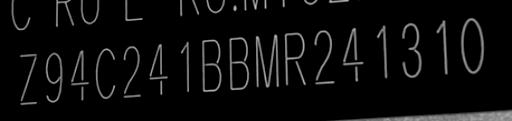letter: (456, 14, 490, 77), (338, 24, 368, 87), (396, 20, 426, 79), (430, 15, 456, 80), (310, 27, 338, 86), (254, 31, 282, 90), (226, 34, 252, 95), (198, 35, 224, 96), (283, 30, 309, 89), (92, 45, 118, 102), (146, 40, 170, 99), (15, 50, 39, 109), (68, 47, 92, 104), (42, 50, 66, 107), (370, 21, 392, 82), (120, 43, 142, 102), (176, 37, 192, 96)
